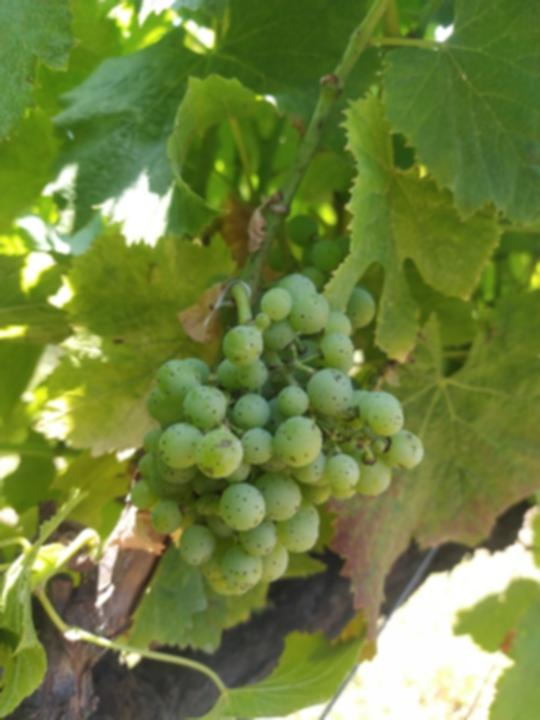grape: (130, 272, 425, 598)
